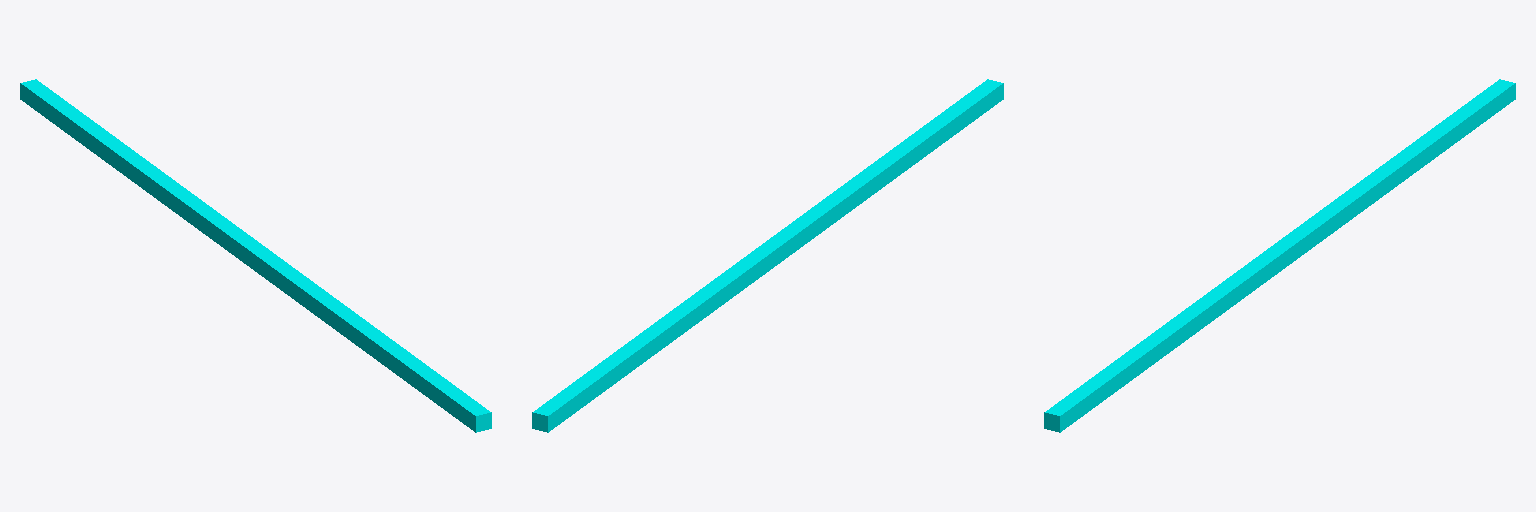
robot.urdf — urdf_robot:
<?xml version="1.0" ?>
<robot name="urdf_robot">
  <material name="cyan">
    <color rgba="0.0 1.0 1.0 1"/>
  </material>

  <link name="base_link">
    <inertial>
      <mass value="0"/>
      <inertia ixx="1" ixy="0" ixz="0" iyy="1" iyz="0" izz="1"/>
    </inertial>
    <visual>
      <geometry>
        <box size="0.05 2.5 0.05"/>
      </geometry>
      <material name="cyan"/>
    </visual>
  </link>
</robot>

--- Render facts (derived) ---
Views: 3 orthographic renders of the robot side by side, from view 1: azimuth 30°, elevation 25°; view 2: azimuth 150°, elevation 25°; view 3: azimuth 330°, elevation 25°.
Model urdf_robot with 1 links and 0 joints (none), rooted at base_link, posed every joint at zero.
Links seen in each view (by area): view 1: base_link; view 2: base_link; view 3: base_link.
Link boxes in pixels (<box>): base_link: <box>20,79,491,432</box>; base_link: <box>532,79,1003,432</box>; base_link: <box>1044,79,1515,432</box>.
Bounding box of the posed robot: 0.05 × 2.5 × 0.05 m (x, y, z).
Geometry: primitives only (box / cylinder / sphere), no mesh files.
